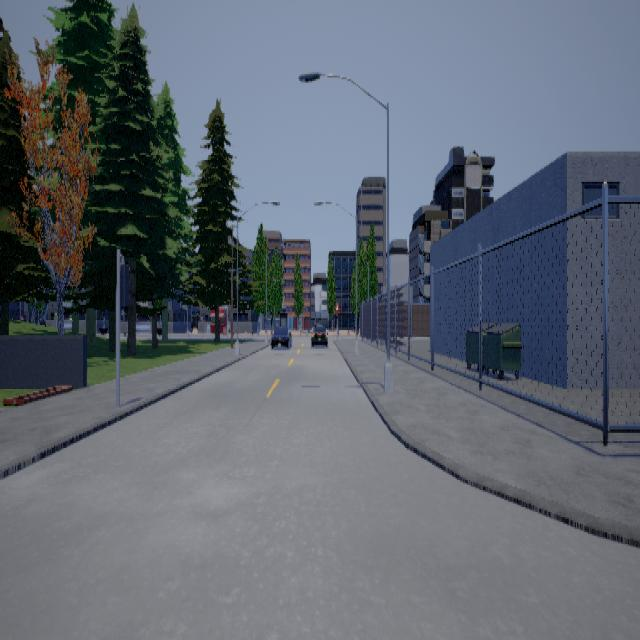red_light: (333, 302, 339, 312)
vehicle: (269, 322, 292, 350), (308, 323, 327, 347)
